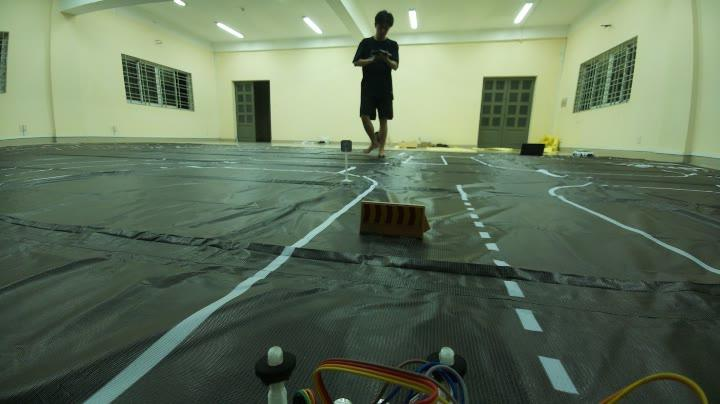roadblock: (354, 194, 434, 242)
